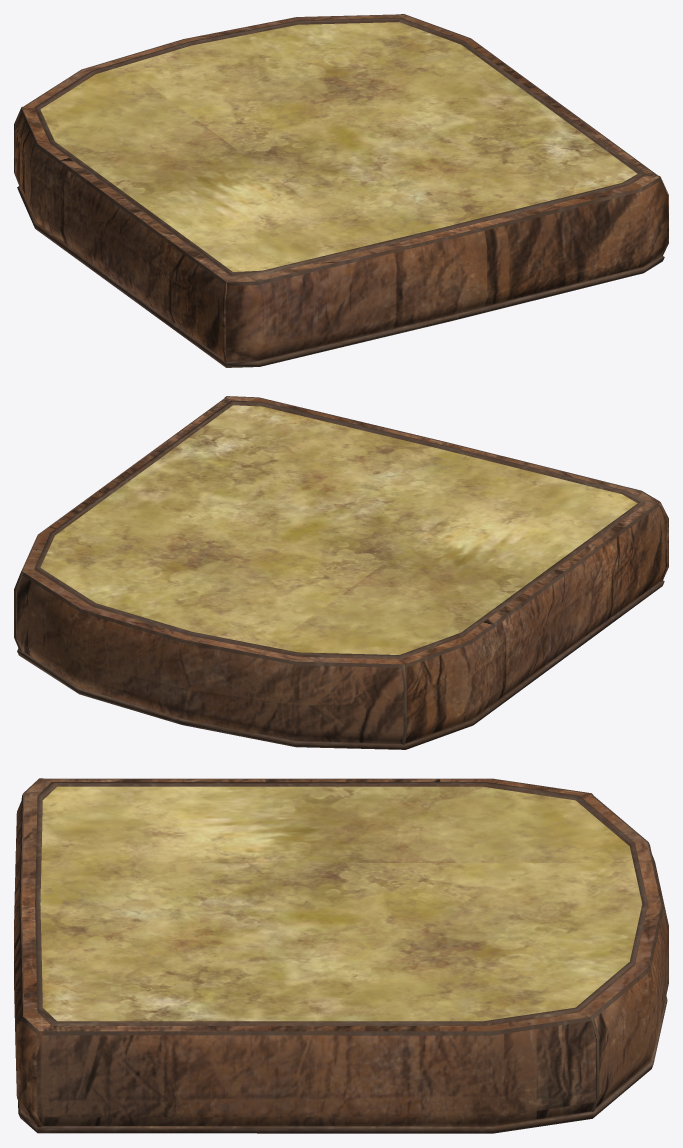
File: SeatBCusionBottom.fbx
3 renders of one model, top to bottom at view 1: azimuth 30°, elevation 25°; view 2: azimuth 150°, elevation 25°; view 3: azimuth 270°, elevation 25°, orthographic. The views are drawn at different scales.
Visible parts, largest first — view 1: SeatBCushionBottom; view 2: SeatBCushionBottom; view 3: SeatBCushionBottom.
Boxes of the visible parts, x1,y1,x2,y2 form: SeatBCushionBottom: (14, 14, 668, 367); SeatBCushionBottom: (14, 396, 668, 749); SeatBCushionBottom: (14, 778, 668, 1133).
Bounding box in the file's own units: 87.79 × 16.52 × 93.63.
